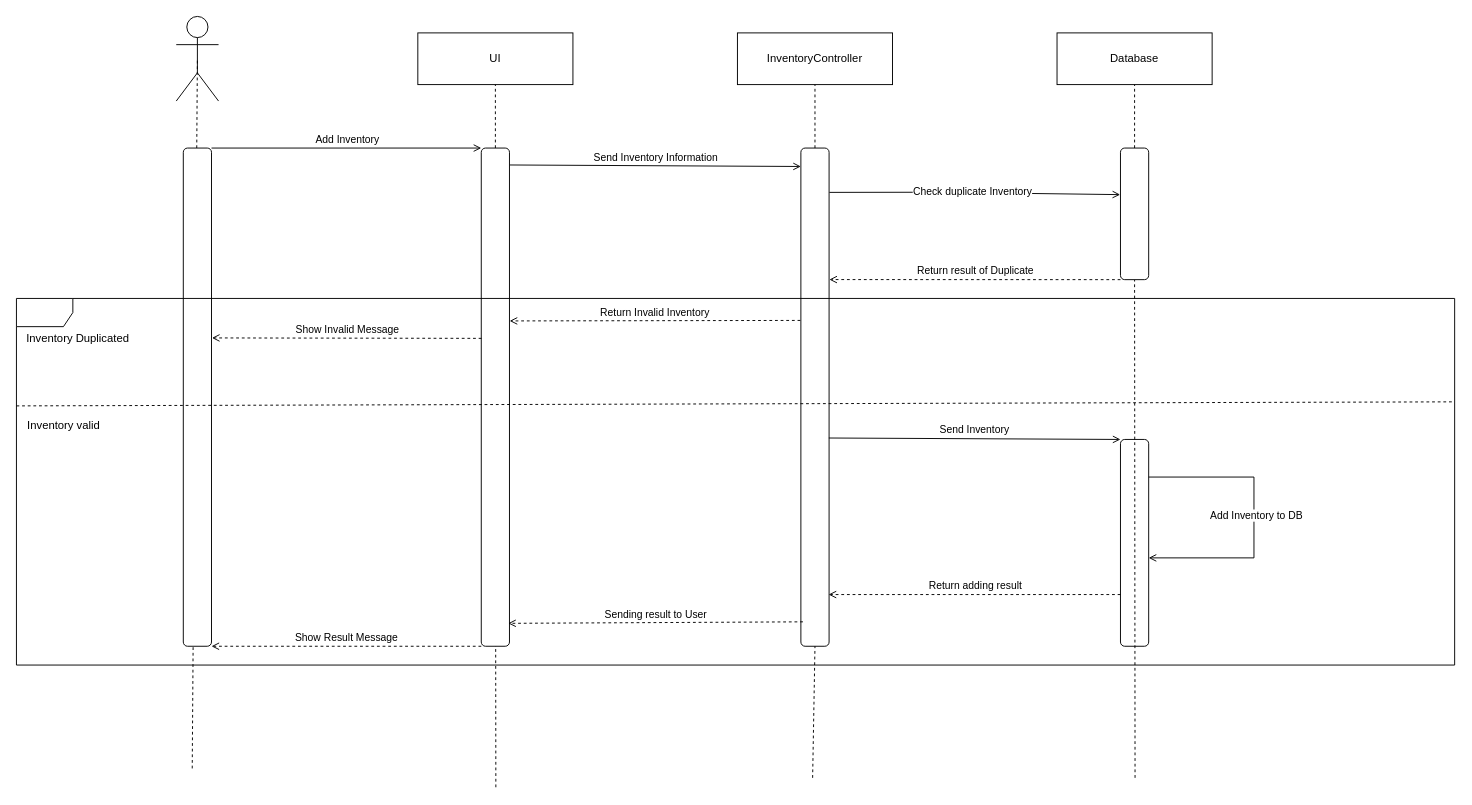
Some shapes in this 1472 by 805 pixel diagram are drawn without their labels. The box of each missing label's shape, as (x1, y1, x2, y2) in pixels:
Admin: (175, 16, 219, 101)
Alt: (16, 298, 1455, 665)
